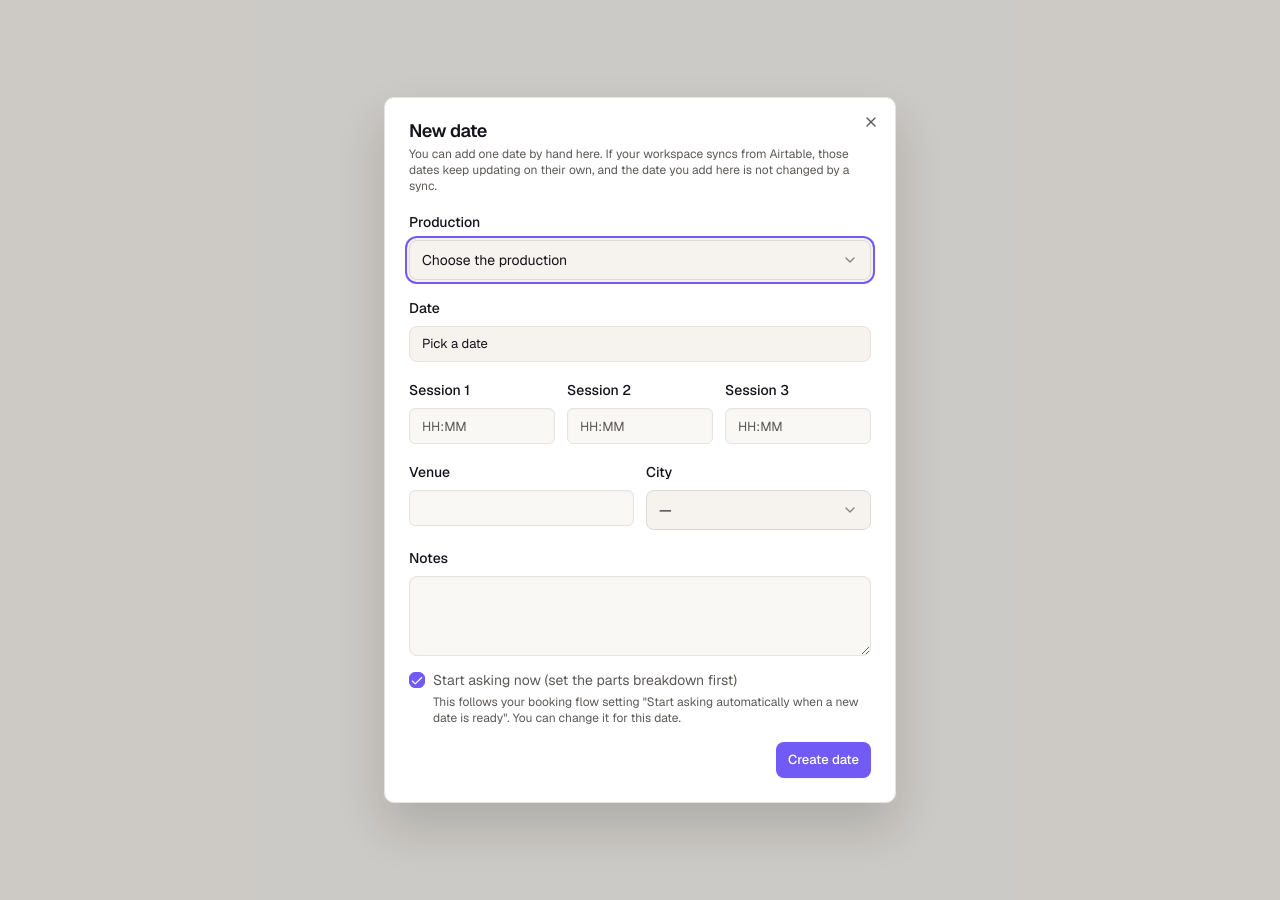
it: ShowDateFormDialog › create requires a production and a date
Click the button "Create date": (824, 760) [776,742,871,778]
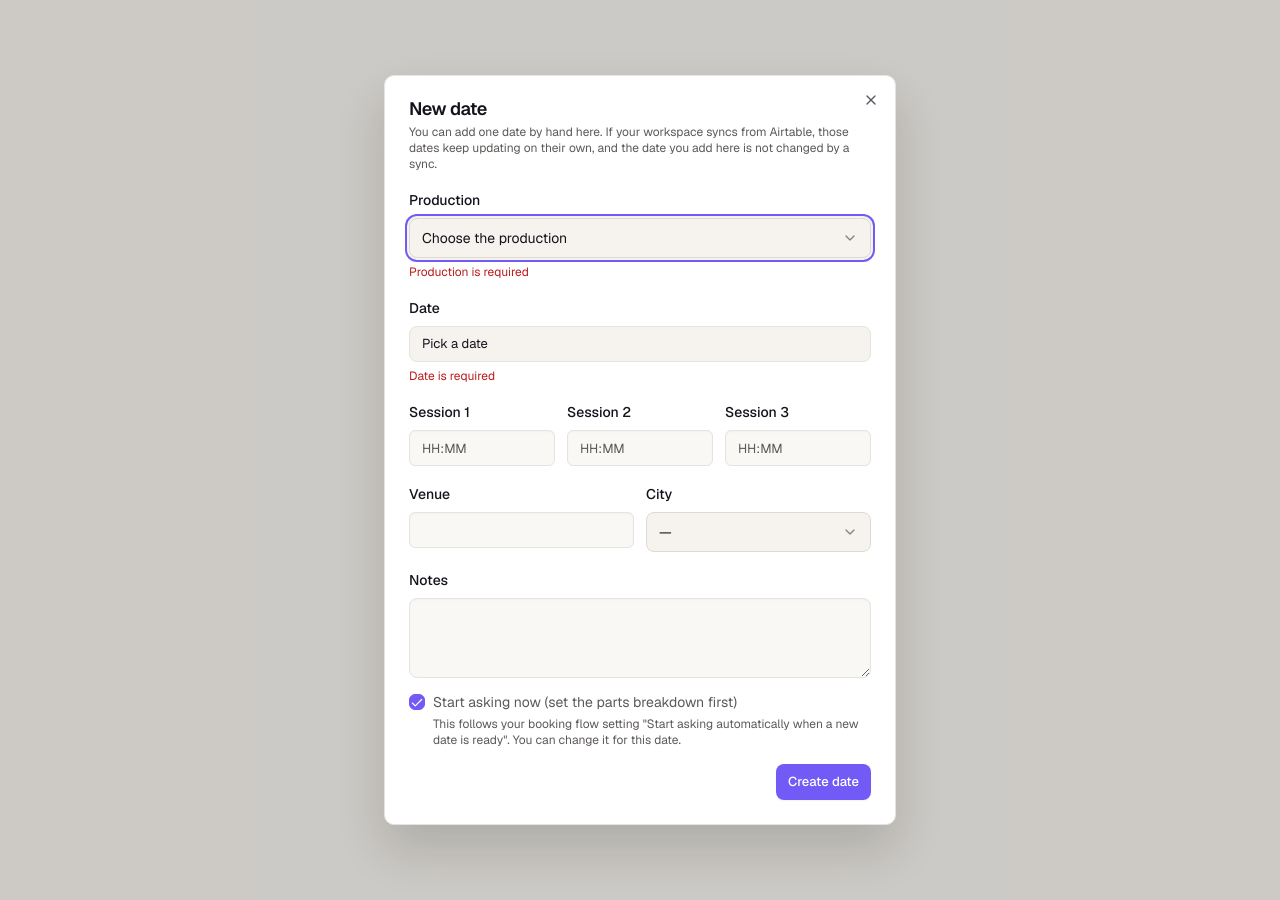
Expected: the text "Production is required" is shown, [409,264,529,280]
